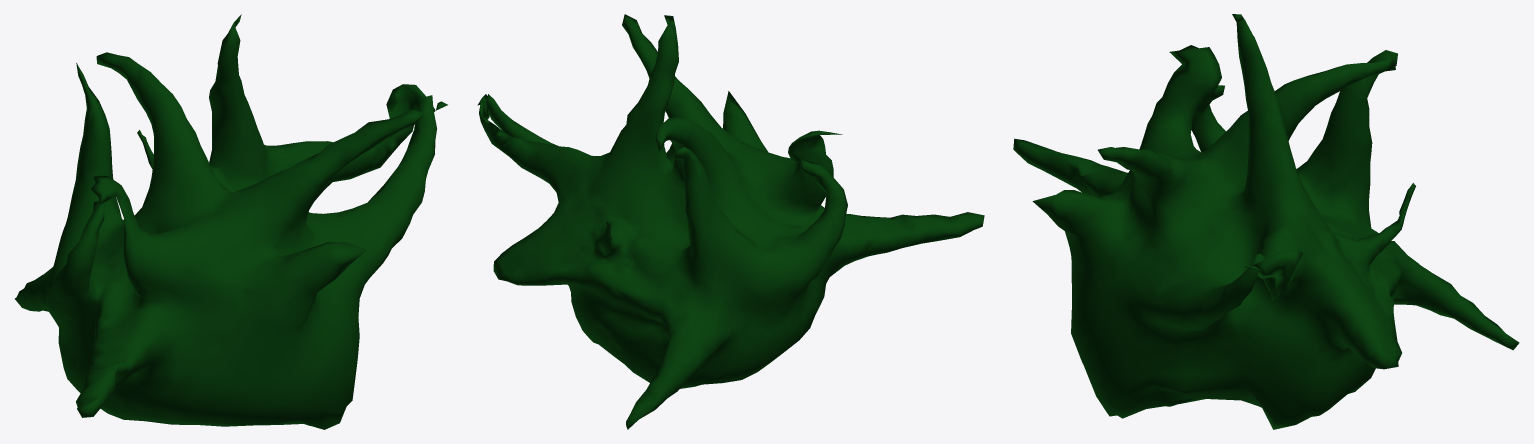
File: jump_cthulhu_0017.obj
3 renders of one model, left to right at view 1: azimuth 30°, elevation 25°; view 2: azimuth 150°, elevation 25°; view 3: azimuth 270°, elevation 25°, orthographic. The views are drawn at different scales.
Visible parts, largest first — view 1: Cube; view 2: Cube; view 3: Cube.
Part boxes in pixels (left/top/right/bottom): Cube: left=14, top=14, right=447, bottom=429; Cube: left=477, top=14, right=984, bottom=429; Cube: left=1013, top=14, right=1519, bottom=429.
Size of the model in its own units: 1.22 by 0.9434 by 1.08.
